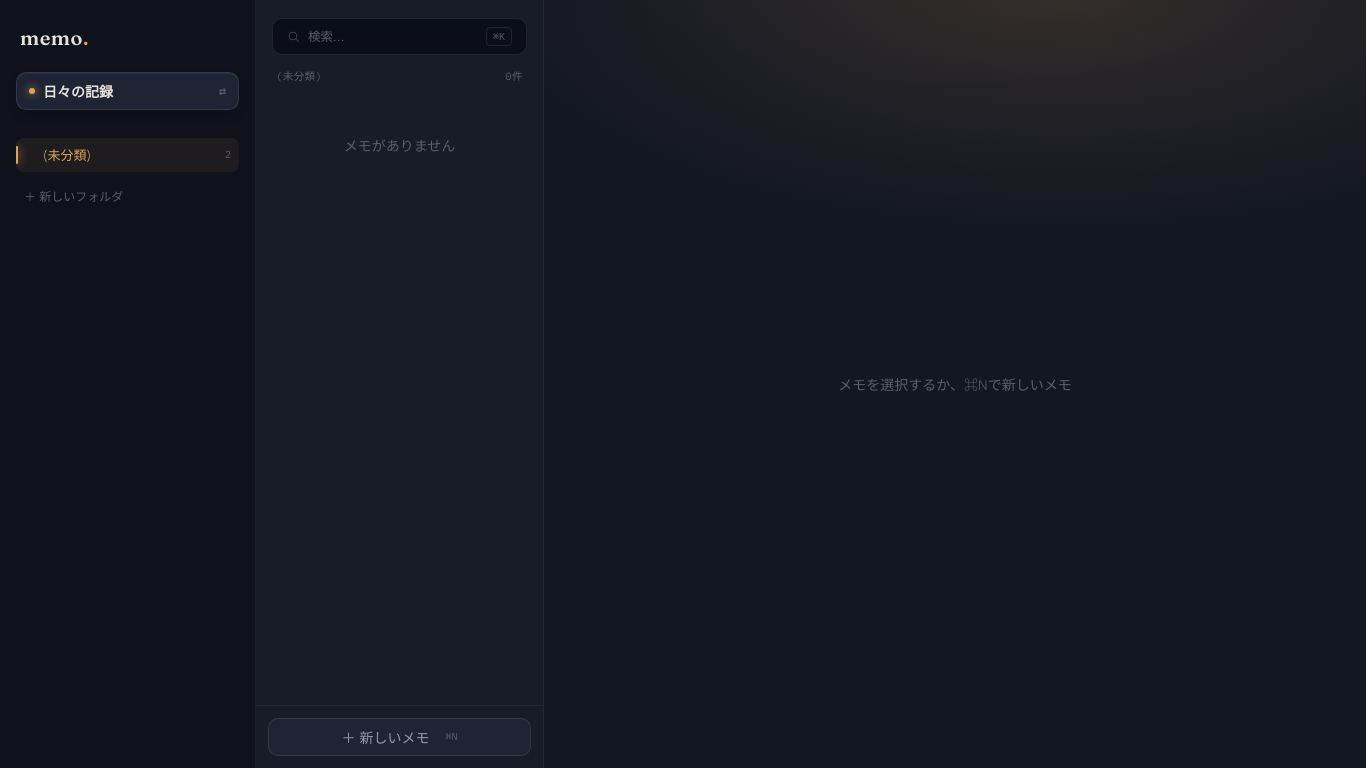
Test: App folders › shows an empty state after deleting the last vault
Click the button with aria-label "Vaultを切り替える": {"x": 128, "y": 91} [16, 72, 239, 110]
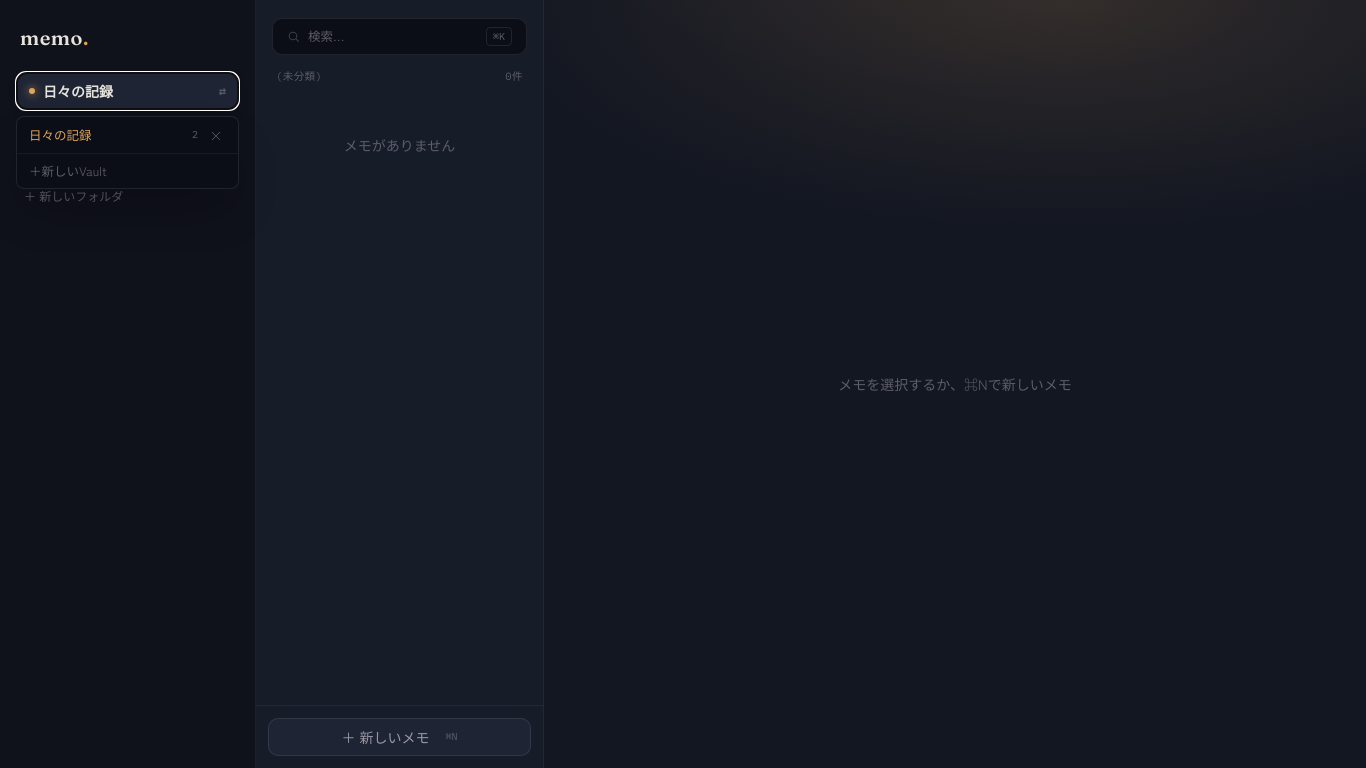
Click the button named "Vaultを削除": {"x": 216, "y": 135} [206, 125, 226, 145]
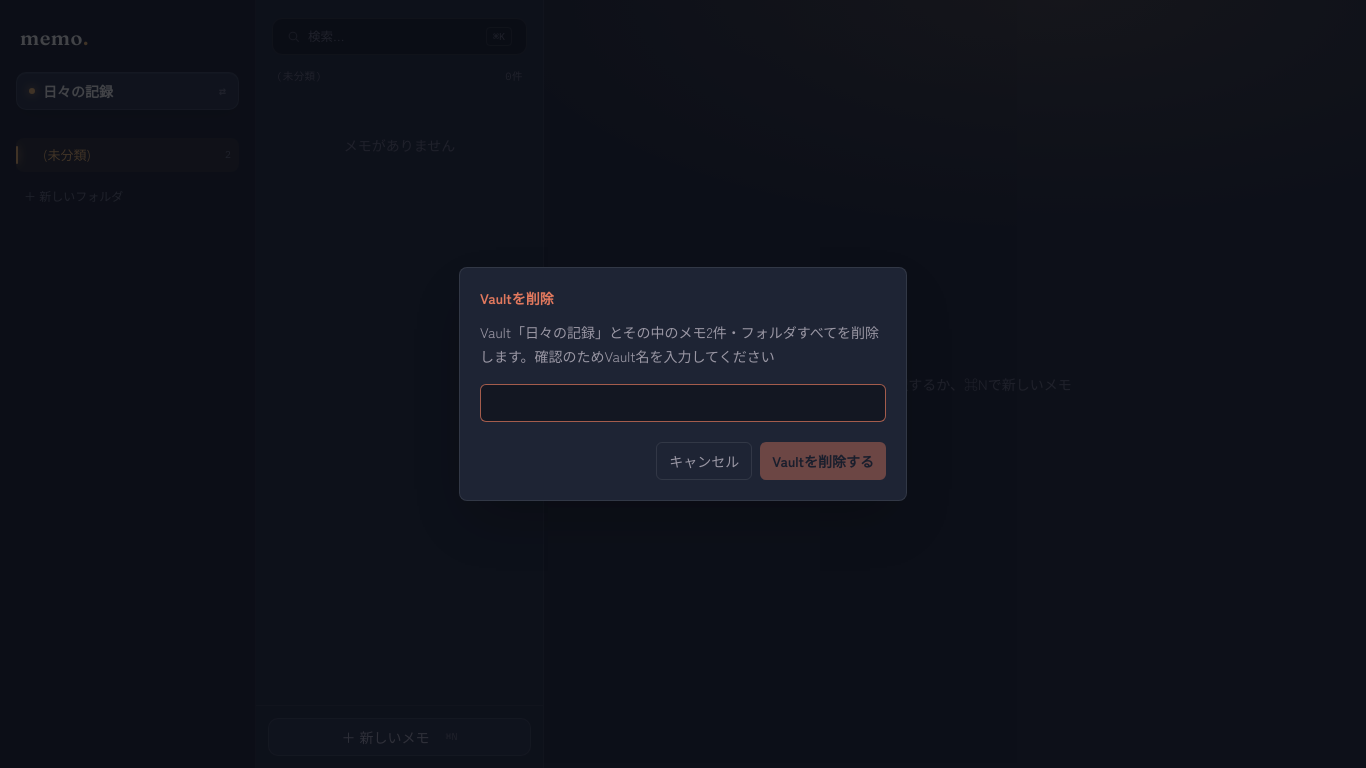
In the field named "確認用Vault名": {"x": 683, "y": 403} [480, 384, 886, 422], type "日々の記録"
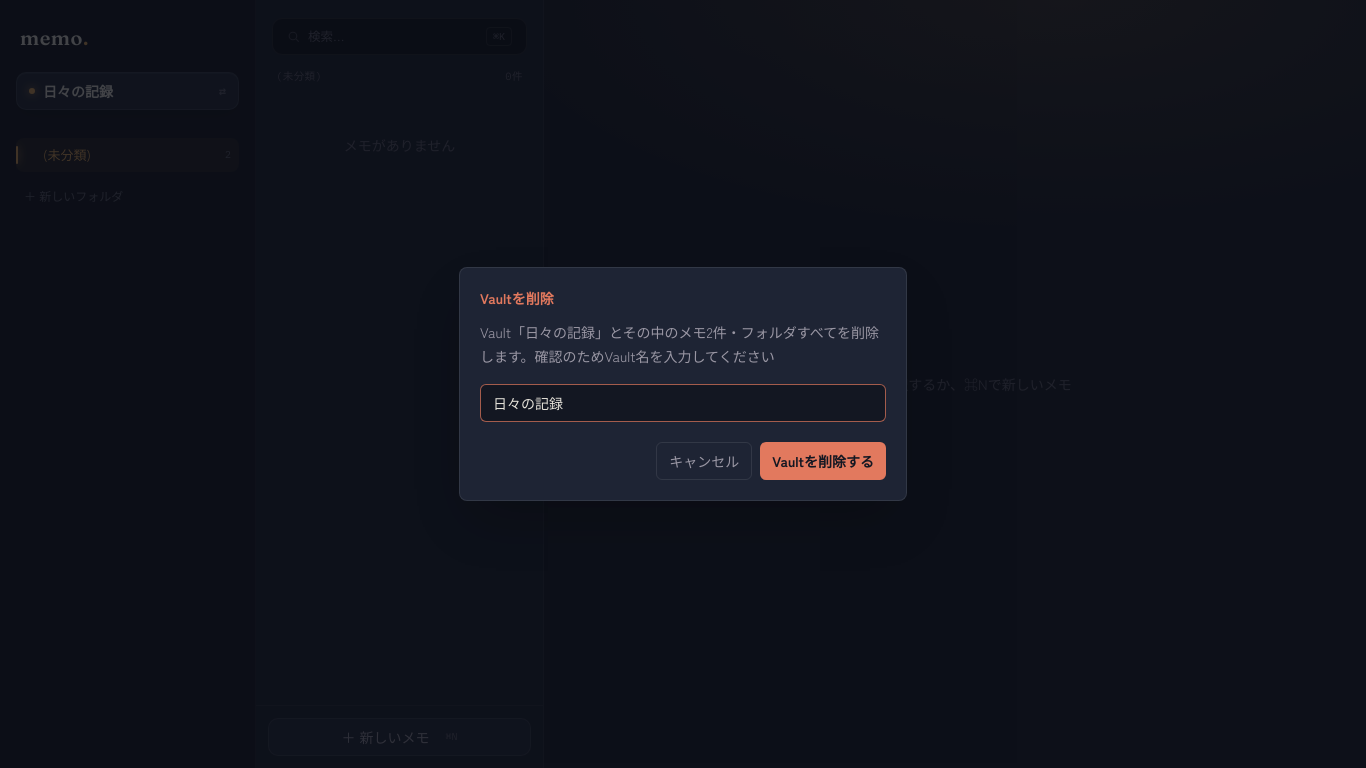
Click the button "Vaultを削除する": {"x": 823, "y": 461} [760, 442, 886, 480]
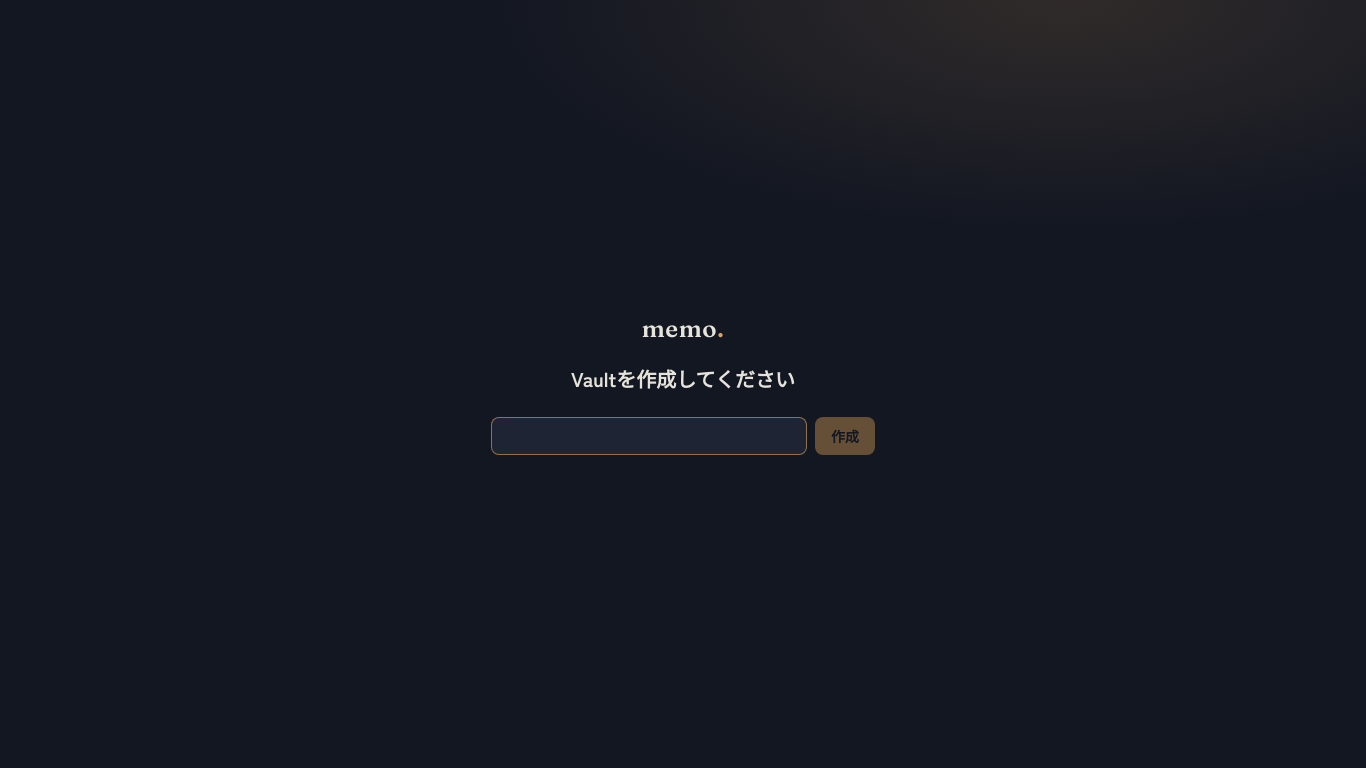
Result: the heading "Vaultを作成してください" is shown at [571, 364, 795, 393]
Result: the field named "Vault名" is shown at [491, 417, 807, 455]
